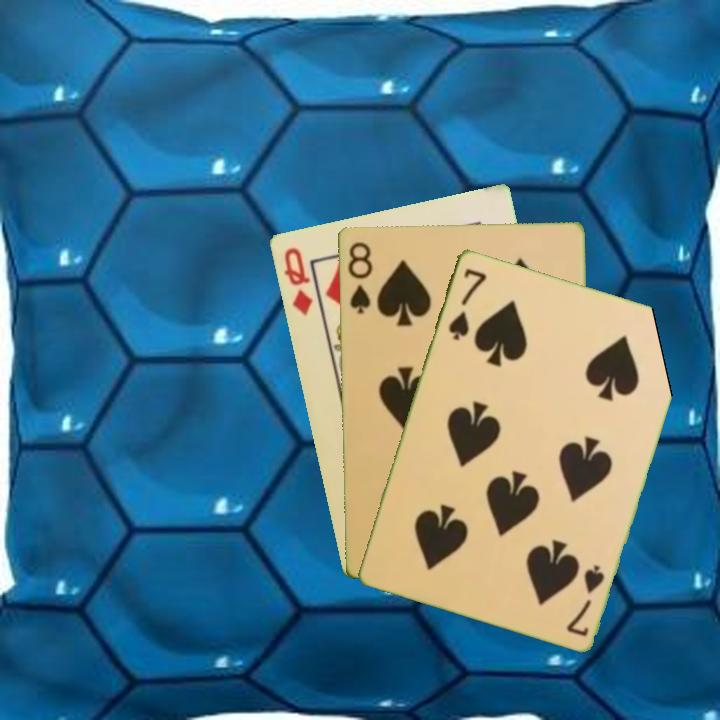7s: (444, 264, 489, 343), (562, 560, 607, 639)
8s: (344, 238, 375, 316)
Qd: (279, 243, 316, 319)
